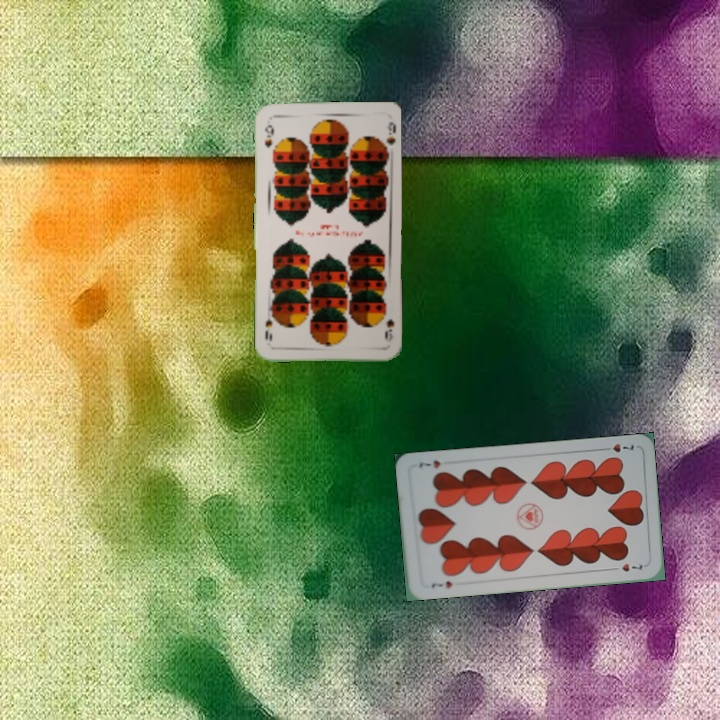H7: (598, 439, 636, 455), (428, 577, 455, 591)
S9: (378, 305, 396, 345), (261, 121, 276, 150)
